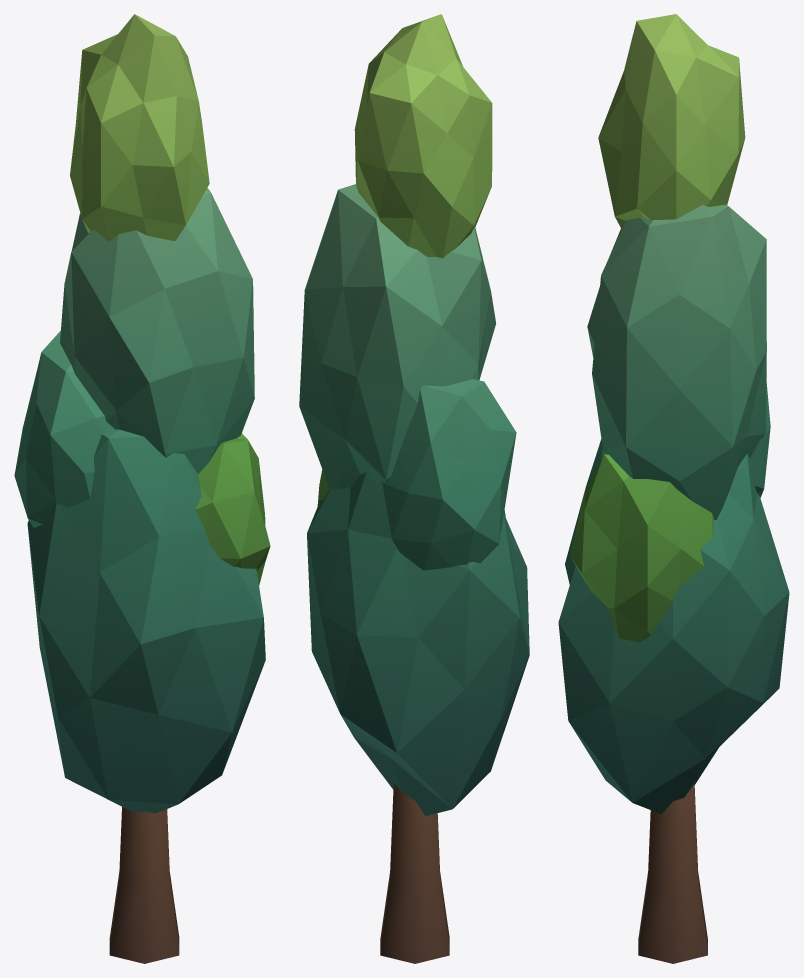
The model's file is tree_poplar.glb.
3 views of the same model, side by side, from view 1: azimuth 30°, elevation 25°; view 2: azimuth 150°, elevation 25°; view 3: azimuth 270°, elevation 25° (orthographic).
Parts seen in each view (by area): view 1: tree_poplar; view 2: tree_poplar; view 3: tree_poplar.
Boxes of the visible parts, x1,y1,x2,y2 form: tree_poplar: (14, 14, 270, 963); tree_poplar: (299, 14, 529, 963); tree_poplar: (558, 14, 789, 963).
Size of the model in its own units: 7.63 by 31.96 by 7.2.
1 material, 1 textured.
